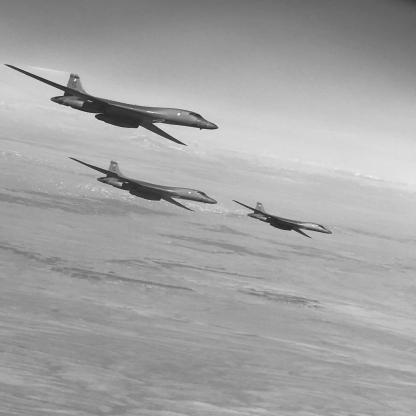B1: (4, 65, 220, 147), (69, 158, 219, 213), (233, 201, 333, 239)
